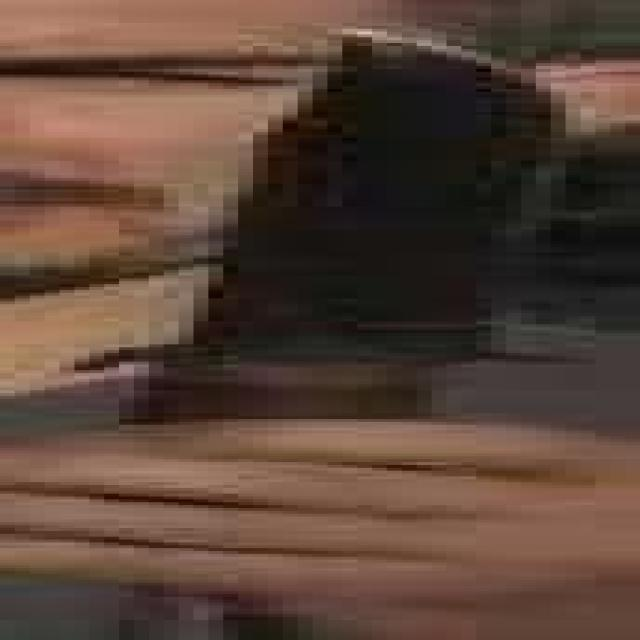weapon: (104, 26, 565, 640)
